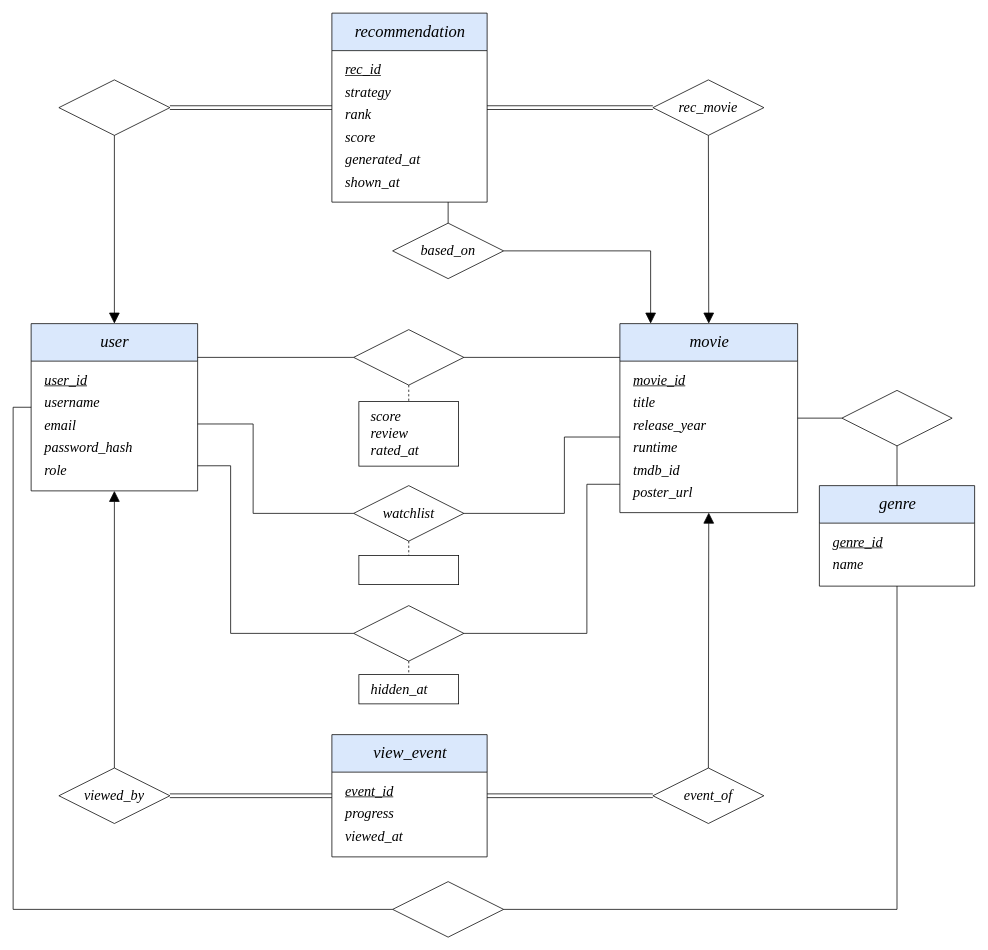
Some shapes in this 988 by 950 pixel diagram are drawn without their labels. Here are the shapes that lost their labels. From the top down, the centre of each, then its label:
point (114, 107): rec_for
point (408, 357): rates
point (896, 418): has_genre
point (408, 570): added_at
point (408, 633): hides
point (448, 909): prefers
